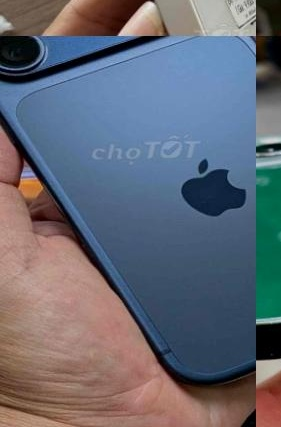scratch: (256, 339, 281, 361)
